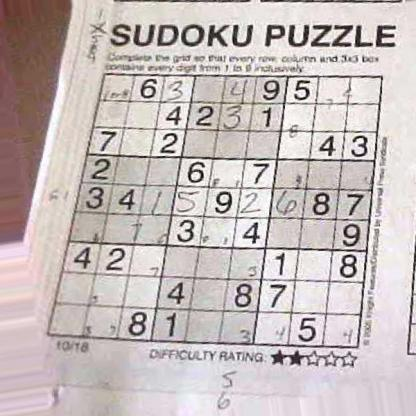sudoku: (44, 69, 385, 350)
